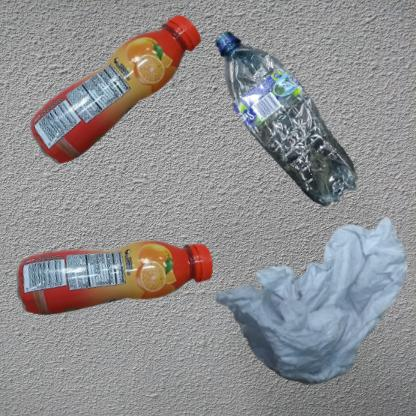botella: (10, 10, 272, 202), (213, 10, 378, 246), (10, 213, 236, 354)
papel: (213, 213, 409, 387)
